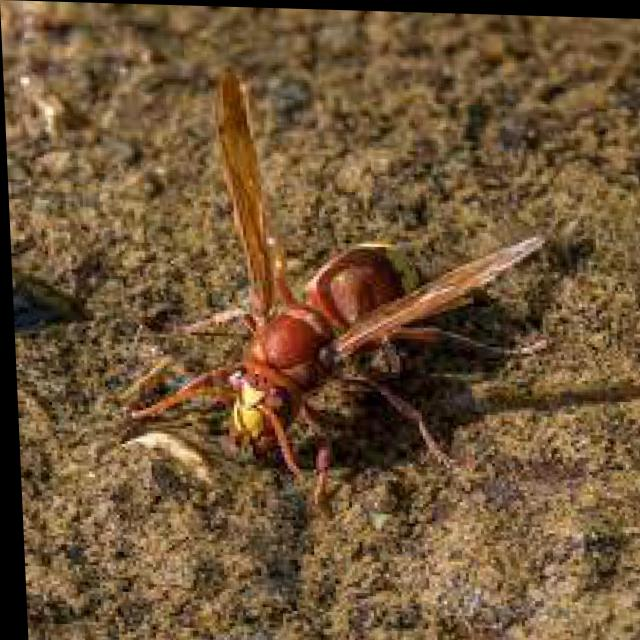Vespa Orientalis: (86, 46, 579, 525)
